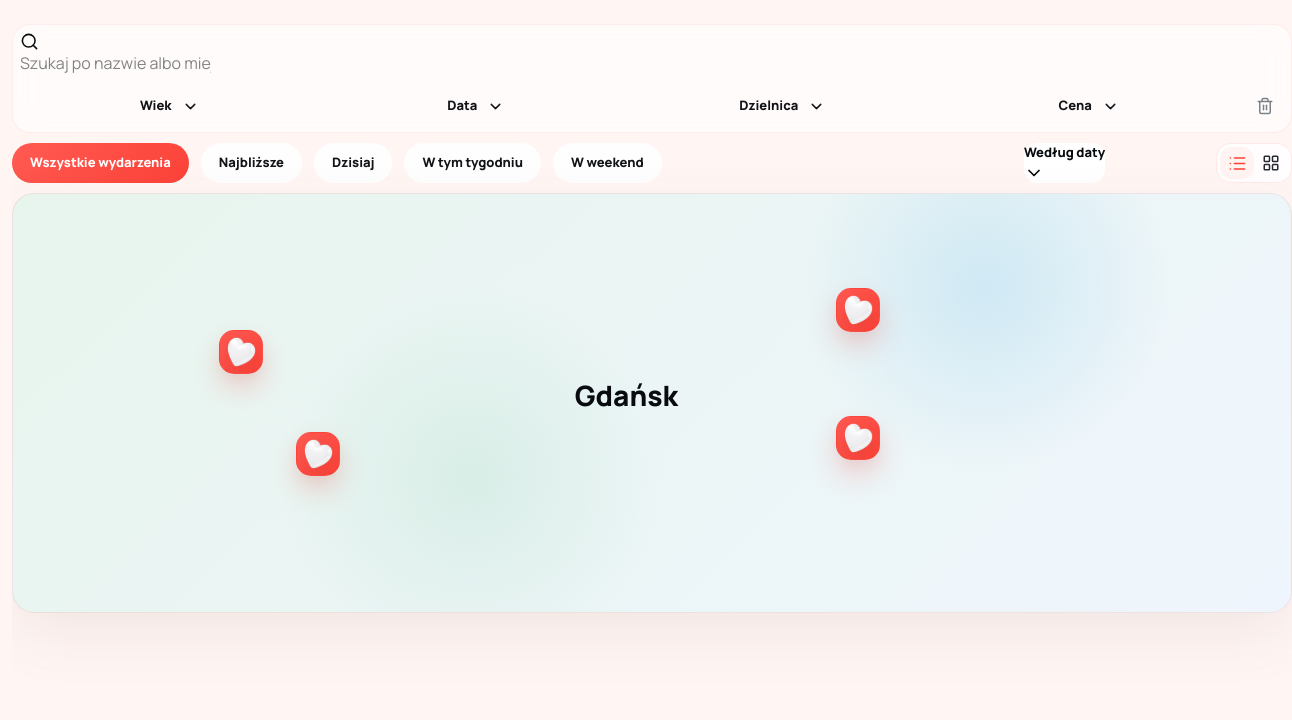
Scenario: ProfileEventsView › resets filters from the delete icon
The width and height of the screenshot is (1292, 720).
In the field with placeholder "Szukaj po nazwie albo miejscu": (116, 63) [20,51,211,75], type "Oliwa"
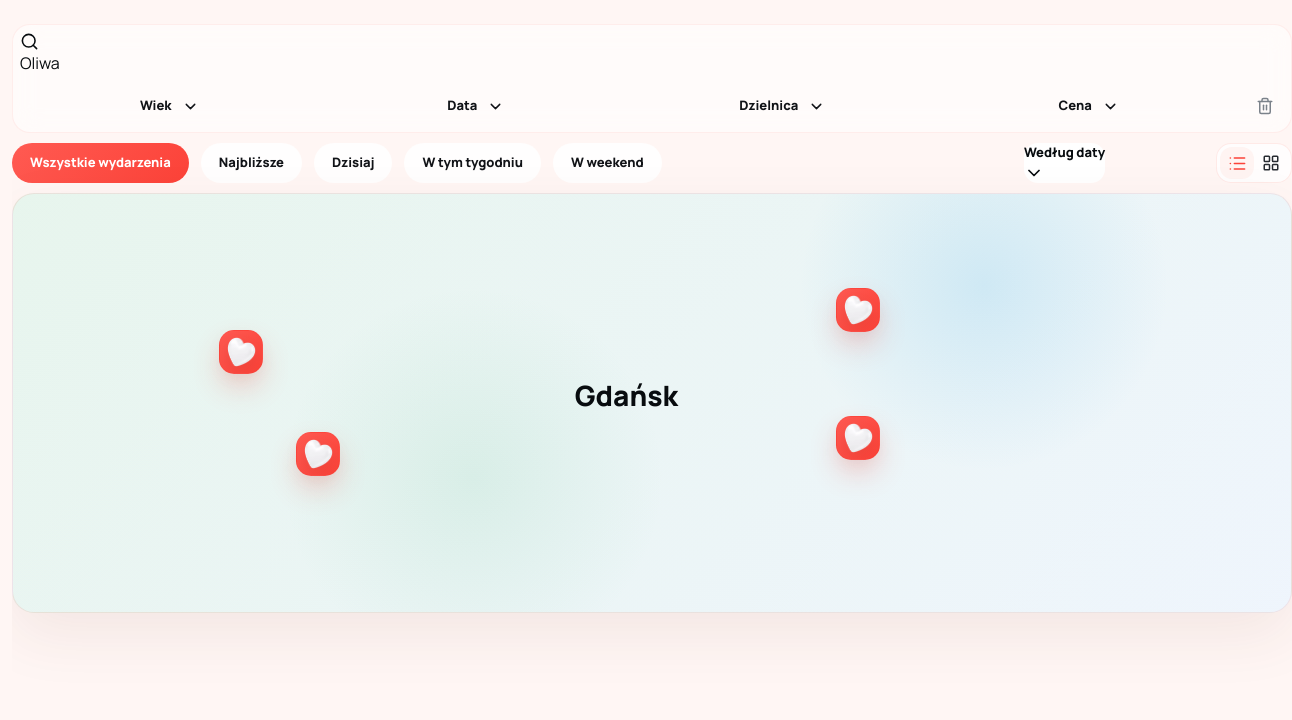
Click the button named "Zresetuj filtry": (1265, 106) [1246,87,1284,125]
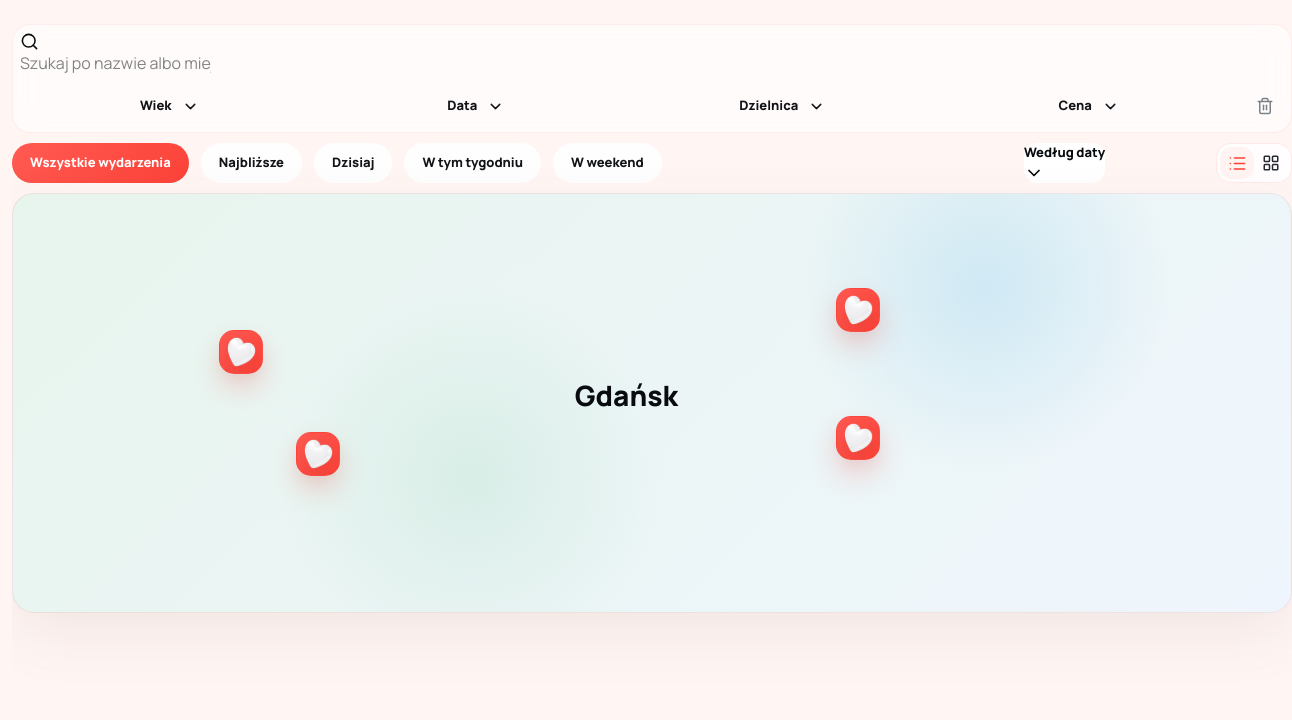
Now the field with placeholder "Szukaj po nazwie albo miejscu" is empty, box [20,51,211,75]
